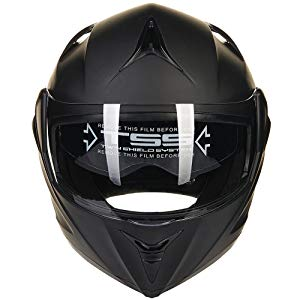with_helmet: (27, 2, 274, 299)
